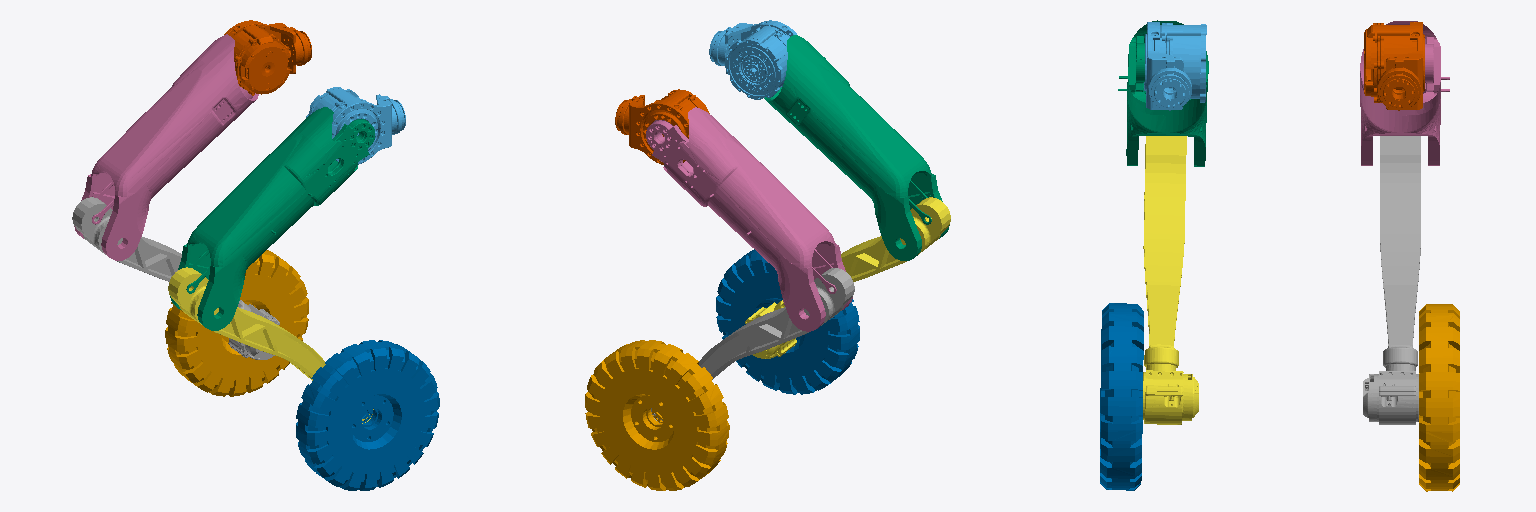
The robot description file, URDF, robot "xqrobotV2":
<?xml version="1.0" encoding="utf-8"?>
<!-- ================================================================ -->
<!--  轮腿机器人 xqrobotV2 完整 URDF (RL 训练版)                      -->
<!--  · 浮动基座，无 base_footprint                                   -->
<!--  · 左右连杆质量/惯量/质心严格镜像对称                            -->
<!--  · 关节轴对齐坐标轴，左右完全镜像                                -->
<!--  · 电机参数：R86-2 (joint1,2)  R52 (joint3,wheel)               -->
<!--  · 碰撞体暂不简化（使用原始STL网格）                             -->
<!-- ================================================================ -->
<robot name="xqrobotV2">

  <!-- ===================== 机身 ===================== -->
  <link name="base_link">
    <inertial>
      <origin xyz="0.0260584776392811 2.63948771484362E-05 0.0249151886332598" rpy="0 0 0"/>
      <mass value="5.40808937988952"/>
      <inertia ixx="0.0141526926740799" ixy="-8.82055086375627E-07" ixz="-0.000153583914289175"
               iyy="0.0252117206561601" iyz="2.91271852006315E-06" izz="0.0247556890398874"/>
    </inertial>
    <visual>
      <origin xyz="0 0 0" rpy="0 0 0"/>
      <geometry>
        <mesh filename="package://xqrobotV2/meshes/base_link.STL"/>
      </geometry>
      <material name="">
        <color rgba="0.647058823529412 0.517647058823529 0 1"/>
      </material>
    </visual>
    <collision>
      <origin xyz="0 0 0" rpy="0 0 0"/>
      <geometry>
        <mesh filename="package://xqrobotV2/meshes/base_link.STL"/>
      </geometry>
    </collision>
  </link>

  <!-- ===================== 左腿 ===================== -->
  <!-- left_link_1 质量/惯量已与 right_link_1 取镜像平均值 -->
  <link name="left_link_1">
    <inertial>
      <origin xyz="-0.0329313 -0.0106322 0.0002716" rpy="0 0 0"/>
      <mass value="0.17414594"/>
      <inertia ixx="9.79354e-05" ixy="-1.9173e-05" ixz="-8.824e-07"
               iyy="0.00018457" iyz="-8.020e-07" izz="0.00013470"/>
    </inertial>
    <visual>
      <origin xyz="0 0 0" rpy="0 0 0"/>
      <geometry>
        <mesh filename="package://xqrobotV2/meshes/left_link_1.STL"/>
      </geometry>
      <material name=""/>
    </visual>
    <collision>
      <origin xyz="0 0 0" rpy="0 0 0"/>
      <geometry>
        <mesh filename="package://xqrobotV2/meshes/left_link_1.STL"/>
      </geometry>
    </collision>
  </link>

  <joint name="left_joint_1" type="revolute">
    <origin xyz="0.068989065886231 -0.123883478847315 -0.000994304172399263" rpy="0 0 0"/>
    <parent link="base_link"/>
    <child link="left_link_1"/>
    <axis xyz="-1 0 0"/>   <!-- 严格沿 -X 轴 -->
    <limit lower="0" upper="3.141592653589793" effort="80" velocity="27.23"/>
  </joint>

  <!-- left_link_2 对称化 -->
  <link name="left_link_2">
    <inertial>
      <origin xyz="-0.1067452 0.0104288 -0.0754200" rpy="0 0 0"/>
      <mass value="0.67262843"/>
      <inertia ixx="0.00196263" ixy="-1.0e-6" ixz="-0.0013366"
               iyy="0.00341763" iyz="-1.0e-6" izz="0.00227239"/>
    </inertial>
    <visual>
      <origin xyz="0 0 0" rpy="0 0 0"/>
      <geometry>
        <mesh filename="package://xqrobotV2/meshes/left_link_2.STL"/>
      </geometry>
    </visual>
    <collision>
      <origin xyz="0 0 0" rpy="0 0 0"/>
      <geometry>
        <mesh filename="package://xqrobotV2/meshes/left_link_2.STL"/>
      </geometry>
    </collision>
  </link>

  <joint name="left_joint_2" type="revolute">
    <origin xyz="-0.0698 -0.019497832506859 0.00029073619393083" rpy="0 0 0"/>
    <parent link="left_link_1"/>
    <child link="left_link_2"/>
    <axis xyz="0 1 0"/>   <!-- 严格沿 +Y 轴 -->
    <limit lower="-1.0471975511965976" upper="2.0943951023931953" effort="80" velocity="27.23"/>
  </joint>

  <!-- left_link_3 对称化 -->
  <link name="left_link_3">
    <inertial>
      <origin xyz="0.0949942 -0.0011798 -0.0810423" rpy="0 0 0"/>
      <mass value="0.41997427"/>
      <inertia ixx="0.00110455" ixy="1.72e-05" ixz="0.00120627"
               iyy="0.00265592" iyz="-1.51e-05" izz="0.00164653"/>
    </inertial>
    <visual>
      <origin xyz="0 0 0" rpy="0 0 0"/>
      <geometry>
        <mesh filename="package://xqrobotV2/meshes/left_link_3.STL"/>
      </geometry>
    </visual>
    <collision>
      <origin xyz="0 0 0" rpy="0 0 0"/>
      <geometry>
        <mesh filename="package://xqrobotV2/meshes/left_link_3.STL"/>
      </geometry>
    </collision>
  </link>

  <joint name="left_joint_3" type="revolute">
    <origin xyz="-0.223606797749979 0.0150160895557946 -0.200246141172439" rpy="0 0 0"/>
    <parent link="left_link_2"/>
    <child link="left_link_3"/>
    <axis xyz="0 -1 0"/>  <!-- 严格沿 -Y 轴 -->
    <limit lower="-0.8726646259971648" upper="0.8726646259971648" effort="19" velocity="13.61"/>
  </joint>

  <link name="left_link_wheel">
    <inertial>
      <origin xyz="-3.469e-17 -0.01158253 0.00017271" rpy="0 0 0"/>
      <mass value="2.32306566"/>
      <inertia ixx="0.00476729" ixy="0" ixz="0"
               iyy="0.0089701" iyz="-6.2669e-05" izz="0.00476823"/>
    </inertial>
    <visual>
      <origin xyz="0 0 0" rpy="0 0 0"/>
      <geometry>
        <mesh filename="package://xqrobotV2/meshes/left_link_wheel.STL"/>
      </geometry>
    </visual>
    <collision>
      <origin xyz="0 0 0" rpy="0 0 0"/>
      <geometry>
        <mesh filename="package://xqrobotV2/meshes/left_link_wheel.STL"/>
      </geometry>
    </collision>
  </link>

  <joint name="left_joint_wheel" type="continuous">
    <origin xyz="0.22360679774998 -0.0368343791434203 -0.198990223087201" rpy="0 0 0"/>
    <parent link="left_link_3"/>
    <child link="left_link_wheel"/>
    <axis xyz="0 1 0"/>   <!-- 严格沿 +Y 轴 -->
    <limit effort="19" velocity="13.61"/>
  </joint>

  <!-- ===================== 右腿（与左腿完全镜像） ===================== -->
  <link name="right_link_1">
    <inertial>
      <origin xyz="-0.0329313 0.0106322 0.0002716" rpy="0 0 0"/>
      <mass value="0.17414594"/>
      <inertia ixx="9.79354e-05" ixy="1.9173e-05" ixz="8.824e-07"
               iyy="0.00018457" iyz="8.020e-07" izz="0.00013470"/>
    </inertial>
    <visual>
      <origin xyz="0 0 0" rpy="0 0 0"/>
      <geometry>
        <mesh filename="package://xqrobotV2/meshes/right_link_1.STL"/>
      </geometry>
    </visual>
    <collision>
      <origin xyz="0 0 0" rpy="0 0 0"/>
      <geometry>
        <mesh filename="package://xqrobotV2/meshes/right_link_1.STL"/>
      </geometry>
    </collision>
  </link>

  <joint name="right_joint_1" type="revolute">
    <origin xyz="0.0689890658862278 0.123883478847376 -0.000994304172395266" rpy="0 0 0"/>
    <parent link="base_link"/>
    <child link="right_link_1"/>
    <axis xyz="-1 0 0"/>
    <limit lower="-3.141592653589793" upper="0" effort="80" velocity="27.23"/>
  </joint>

  <link name="right_link_2">
    <inertial>
      <origin xyz="-0.1067452 -0.0104288 -0.0754200" rpy="0 0 0"/>
      <mass value="0.67262843"/>
      <inertia ixx="0.00196263" ixy="1.0e-6" ixz="0.0013366"
               iyy="0.00341763" iyz="1.0e-6" izz="0.00227239"/>
    </inertial>
    <visual>
      <origin xyz="0 0 0" rpy="0 0 0"/>
      <geometry>
        <mesh filename="package://xqrobotV2/meshes/right_link_2.STL"/>
      </geometry>
    </visual>
    <collision>
      <origin xyz="0 0 0" rpy="0 0 0"/>
      <geometry>
        <mesh filename="package://xqrobotV2/meshes/right_link_2.STL"/>
      </geometry>
    </collision>
  </link>

  <joint name="right_joint_2" type="revolute">
    <origin xyz="-0.0698 0.0195 0" rpy="0 0 0"/>
    <parent link="right_link_1"/>
    <child link="right_link_2"/>
    <axis xyz="0 -1 0"/>   <!-- 与左腿相反 -->
    <limit lower="-2.0943951023931953" upper="1.0471975511965976" effort="80" velocity="27.23"/>
  </joint>

  <link name="right_link_3">
    <inertial>
      <origin xyz="0.0949942 0.0011798 -0.0810423" rpy="0 0 0"/>
      <mass value="0.41997427"/>
      <inertia ixx="0.00110455" ixy="-1.72e-05" ixz="-0.00120627"
               iyy="0.00265592" iyz="1.51e-05" izz="0.00164653"/>
    </inertial>
    <visual>
      <origin xyz="0 0 0" rpy="0 0 0"/>
      <geometry>
        <mesh filename="package://xqrobotV2/meshes/right_link_3.STL"/>
      </geometry>
    </visual>
    <collision>
      <origin xyz="0 0 0" rpy="0 0 0"/>
      <geometry>
        <mesh filename="package://xqrobotV2/meshes/right_link_3.STL"/>
      </geometry>
    </collision>
  </link>

  <joint name="right_joint_3" type="revolute">
    <origin xyz="-0.223606797749979 -0.0180 -0.196172265023762" rpy="0 0 0"/>
    <parent link="right_link_2"/>
    <child link="right_link_3"/>
    <axis xyz="0 1 0"/>   <!-- 与左腿相反 -->
    <limit lower="-0.8726646259971648" upper="0.8726646259971648" effort="19" velocity="13.61"/>
  </joint>

  <link name="right_link_wheel">
    <inertial>
      <origin xyz="4.3368e-19 0.01158382 1.3878e-17" rpy="0 0 0"/>
      <mass value="2.32306566"/>
      <inertia ixx="0.00476729" ixy="0" ixz="0"
               iyy="0.00897104" iyz="0" izz="0.00476729"/>
    </inertial>
    <visual>
      <origin xyz="0 0 0" rpy="0 0 0"/>
      <geometry>
        <mesh filename="package://xqrobotV2/meshes/right_link_wheel.STL"/>
      </geometry>
    </visual>
    <collision>
      <origin xyz="0 0 0" rpy="0 0 0"/>
      <geometry>
        <mesh filename="package://xqrobotV2/meshes/right_link_wheel.STL"/>
      </geometry>
    </collision>
  </link>

  <joint name="right_joint_wheel" type="continuous">
    <origin xyz="0.22360679774998 0.0308849537991502 -0.203827734976237" rpy="0 0 0"/>
    <parent link="right_link_3"/>
    <child link="right_link_wheel"/>
    <axis xyz="0 -1 0"/>
    <limit effort="19" velocity="13.61"/>
  </joint>

  <!-- ===================== 传动配置 ===================== -->
  <transmission name="trans_left_joint_1">
    <type>transmission_interface/SimpleTransmission</type>
    <joint name="left_joint_1">
      <hardwareInterface>hardware_interface/EffortJointInterface</hardwareInterface>
    </joint>
    <actuator name="act_left_joint_1">
      <hardwareInterface>hardware_interface/EffortJointInterface</hardwareInterface>
      <mechanicalReduction>1</mechanicalReduction>
    </actuator>
  </transmission>
  <transmission name="trans_left_joint_2">
    <type>transmission_interface/SimpleTransmission</type>
    <joint name="left_joint_2">
      <hardwareInterface>hardware_interface/EffortJointInterface</hardwareInterface>
    </joint>
    <actuator name="act_left_joint_2">
      <hardwareInterface>hardware_interface/EffortJointInterface</hardwareInterface>
      <mechanicalReduction>1</mechanicalReduction>
    </actuator>
  </transmission>
  <transmission name="trans_left_joint_3">
    <type>transmission_interface/SimpleTransmission</type>
    <joint name="left_joint_3">
      <hardwareInterface>hardware_interface/EffortJointInterface</hardwareInterface>
    </joint>
    <actuator name="act_left_joint_3">
      <hardwareInterface>hardware_interface/EffortJointInterface</hardwareInterface>
      <mechanicalReduction>1</mechanicalReduction>
    </actuator>
  </transmission>
  <transmission name="trans_left_joint_wheel">
    <type>transmission_interface/SimpleTransmission</type>
    <joint name="left_joint_wheel">
      <hardwareInterface>hardware_interface/VelocityJointInterface</hardwareInterface>
    </joint>
    <actuator name="act_left_joint_wheel">
      <hardwareInterface>hardware_interface/VelocityJointInterface</hardwareInterface>
      <mechanicalReduction>1</mechanicalReduction>
    </actuator>
  </transmission>

  <transmission name="trans_right_joint_1">
    <type>transmission_interface/SimpleTransmission</type>
    <joint name="right_joint_1">
      <hardwareInterface>hardware_interface/EffortJointInterface</hardwareInterface>
    </joint>
    <actuator name="act_right_joint_1">
      <hardwareInterface>hardware_interface/EffortJointInterface</hardwareInterface>
      <mechanicalReduction>1</mechanicalReduction>
    </actuator>
  </transmission>
  <transmission name="trans_right_joint_2">
    <type>transmission_interface/SimpleTransmission</type>
    <joint name="right_joint_2">
      <hardwareInterface>hardware_interface/EffortJointInterface</hardwareInterface>
    </joint>
    <actuator name="act_right_joint_2">
      <hardwareInterface>hardware_interface/EffortJointInterface</hardwareInterface>
      <mechanicalReduction>1</mechanicalReduction>
    </actuator>
  </transmission>
  <transmission name="trans_right_joint_3">
    <type>transmission_interface/SimpleTransmission</type>
    <joint name="right_joint_3">
      <hardwareInterface>hardware_interface/EffortJointInterface</hardwareInterface>
    </joint>
    <actuator name="act_right_joint_3">
      <hardwareInterface>hardware_interface/EffortJointInterface</hardwareInterface>
      <mechanicalReduction>1</mechanicalReduction>
    </actuator>
  </transmission>
  <transmission name="trans_right_joint_wheel">
    <type>transmission_interface/SimpleTransmission</type>
    <joint name="right_joint_wheel">
      <hardwareInterface>hardware_interface/VelocityJointInterface</hardwareInterface>
    </joint>
    <actuator name="act_right_joint_wheel">
      <hardwareInterface>hardware_interface/VelocityJointInterface</hardwareInterface>
      <mechanicalReduction>1</mechanicalReduction>
    </actuator>
  </transmission>

</robot>

--- Render facts (derived) ---
3 views of the same robot in one strip: view 1: azimuth 30°, elevation 25°; view 2: azimuth 150°, elevation 25°; view 3: azimuth 270°, elevation 25° (orthographic).
Robot: xqrobotV2 — 9 links, 8 joints (6 revolute, 2 continuous); root link base_link; default pose: every joint at zero.
Visible links, largest first — view 1: left_link_wheel, left_link_2, right_link_2, right_link_wheel, right_link_1, left_link_3, right_link_3, left_link_1; view 2: right_link_wheel, right_link_2, left_link_2, left_link_wheel, left_link_1, right_link_3, left_link_3, right_link_1; view 3: right_link_3, left_link_3, left_link_wheel, right_link_wheel, left_link_1, right_link_1, right_link_2, left_link_2.
Boxes of the visible links, box(x1,y1,x2,y2) form: left_link_wheel: box(296, 340, 439, 490); left_link_2: box(170, 107, 374, 330); right_link_2: box(74, 34, 258, 260); right_link_wheel: box(165, 250, 308, 396); right_link_1: box(224, 20, 311, 95); left_link_3: box(168, 267, 373, 423); right_link_3: box(72, 197, 279, 359); left_link_1: box(306, 87, 405, 164); right_link_wheel: box(585, 340, 729, 490); right_link_2: box(646, 107, 852, 331); left_link_2: box(764, 35, 949, 260); left_link_wheel: box(716, 249, 859, 394); left_link_1: box(709, 20, 796, 99); right_link_3: box(651, 268, 854, 422); left_link_3: box(745, 197, 950, 358); right_link_1: box(615, 89, 709, 164); right_link_3: box(1363, 136, 1420, 424); left_link_3: box(1143, 136, 1198, 424); left_link_wheel: box(1100, 303, 1143, 490); right_link_wheel: box(1419, 304, 1459, 491); left_link_1: box(1144, 22, 1206, 110); right_link_1: box(1364, 22, 1424, 110); right_link_2: box(1360, 21, 1449, 165); left_link_2: box(1118, 20, 1208, 166).
Bounding box of the posed robot: 0.3702 × 0.3904 × 0.5461 m (x, y, z).
8 mesh visuals loaded from 9 distinct referenced files (8 binary STL); not drawn: 1 (reference not matched to a file when rendering).
